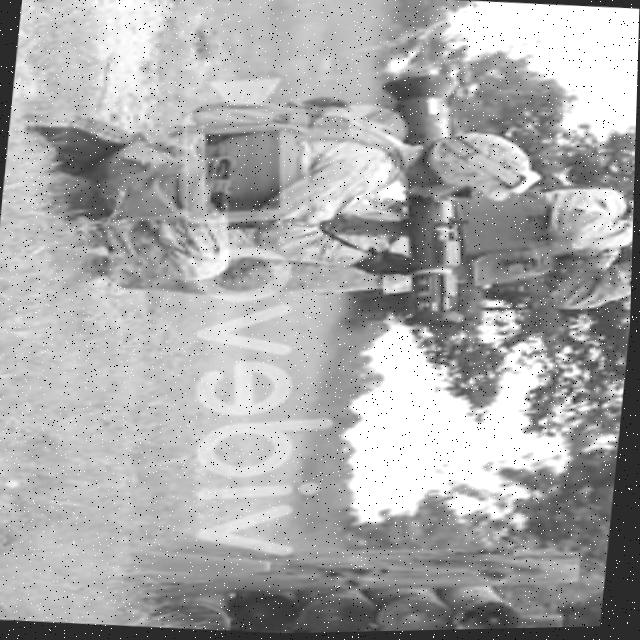rocket: (367, 71, 484, 331)
